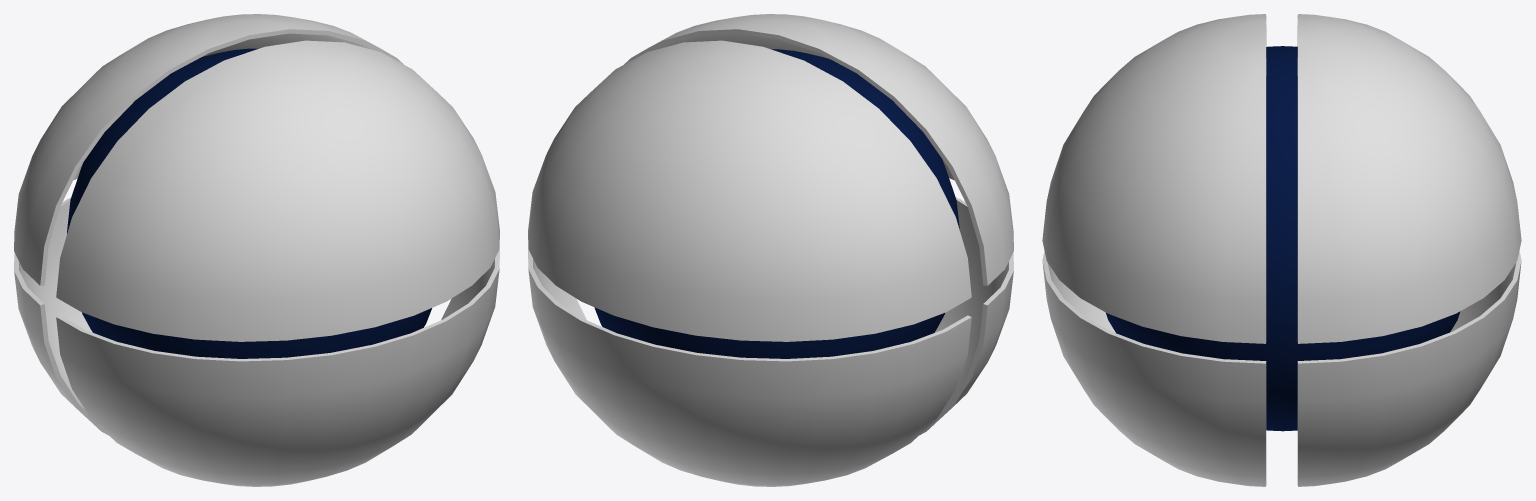
Rendered from Share1.FBX.
3 renders of one model, left to right at view 1: azimuth 30°, elevation 25°; view 2: azimuth 150°, elevation 25°; view 3: azimuth 270°, elevation 25°, orthographic.
Parts seen in each view (by area): view 1: Sphere001, Object001; view 2: Sphere001, Object001; view 3: Sphere001, Object001.
Boxes of the visible parts, x1,y1,x2,y2 form: Sphere001: [14, 14, 499, 486]; Object001: [67, 48, 431, 358]; Sphere001: [528, 14, 1013, 486]; Object001: [594, 49, 959, 358]; Sphere001: [1042, 14, 1521, 486]; Object001: [1105, 46, 1460, 431].
Size of the model in its own units: 95.49 by 91.55 by 93.6.
